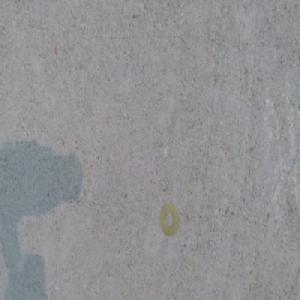Washer: (159, 203, 180, 237)
